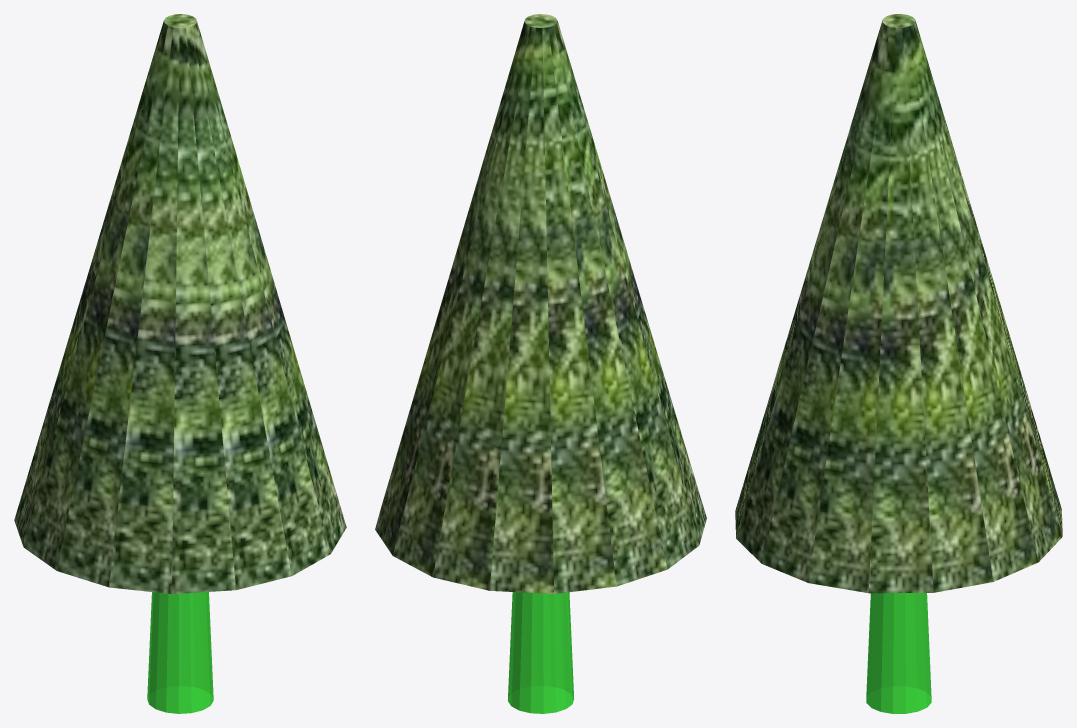
Rendered from GMLID_SO092422_3593_9527.dae.
The picture shows the model from 3 angles, left to right: view 1: azimuth 30°, elevation 25°; view 2: azimuth 150°, elevation 25°; view 3: azimuth 270°, elevation 25°; orthographic projection.
Bounding box in the file's own units: 6.58 × 6.58 × 15.07.
Materials: 2 (1 with a texture image).
